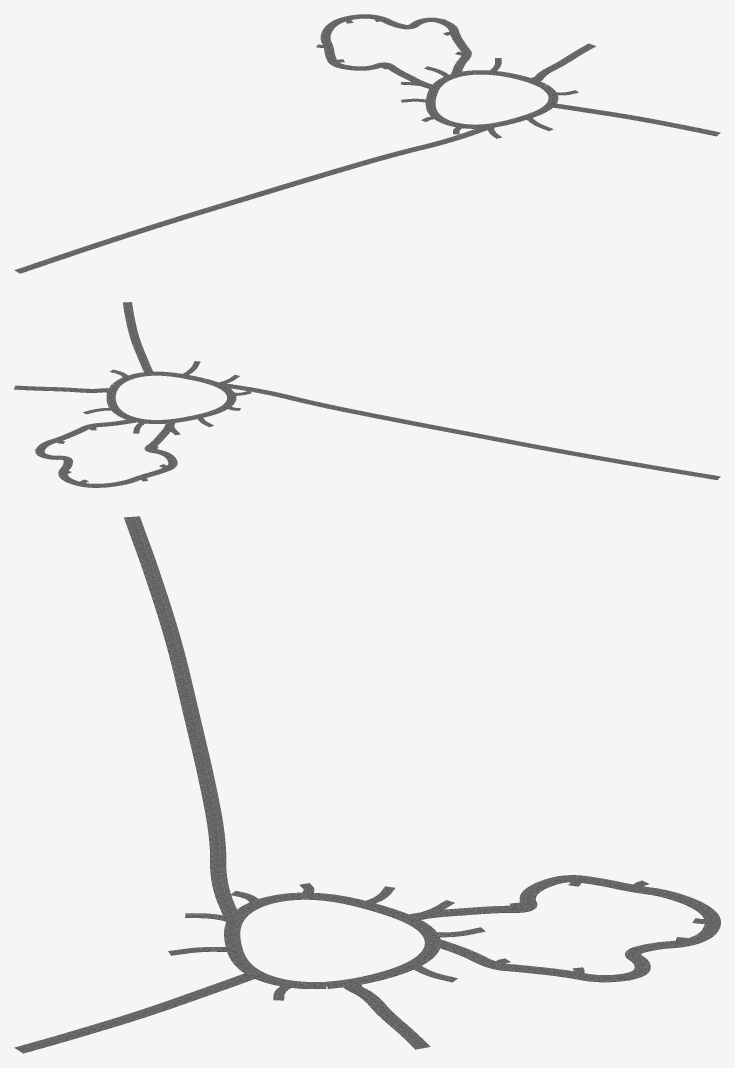
The model's file is jalan-muse-town-v1.glb.
3 views of the same model, one above another, from view 1: azimuth 30°, elevation 25°; view 2: azimuth 150°, elevation 25°; view 3: azimuth 270°, elevation 25° (orthographic). The views are drawn at different scales.
Parts seen in each view (by area): view 1: JalanMuseTown; view 2: JalanMuseTown; view 3: JalanMuseTown.
Part boxes in pixels (left/top/right/bottom): JalanMuseTown: left=14, top=14, right=720, bottom=273; JalanMuseTown: left=14, top=302, right=720, bottom=487; JalanMuseTown: left=14, top=516, right=720, bottom=1053.
Size of the model in its own units: 235 by 0.152 by 131.
1 material, 1 textured.
